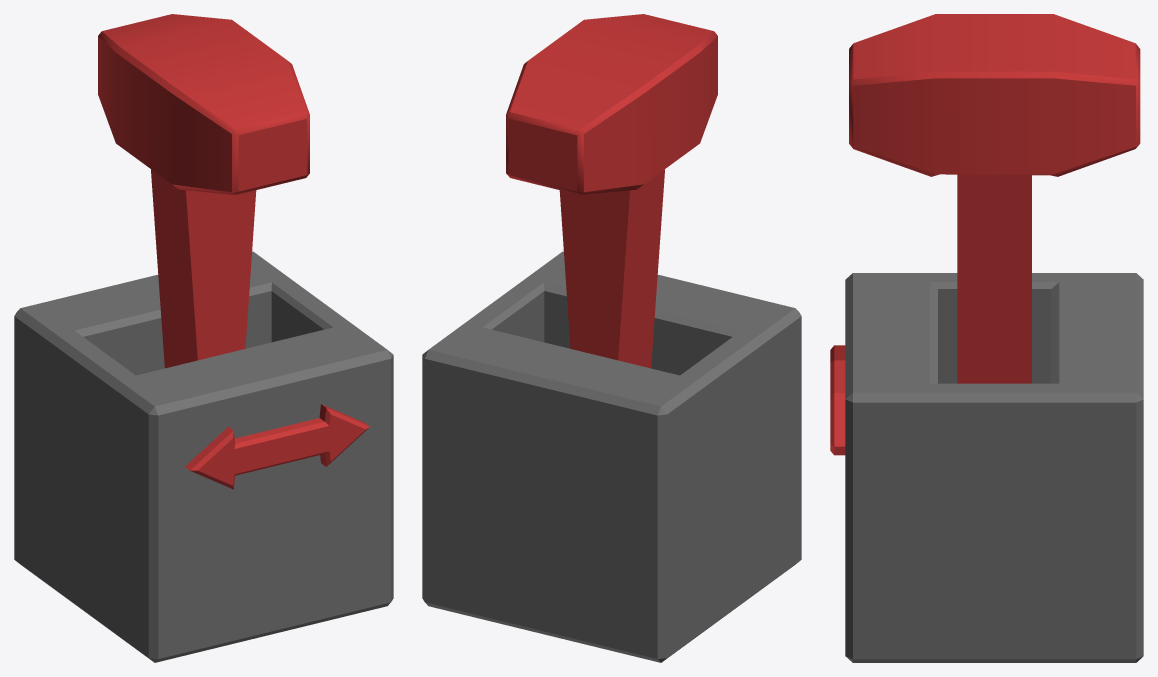
Rendered from switch_kirikae.fbx.
The picture shows the model from 3 angles, left to right: view 1: azimuth 30°, elevation 25°; view 2: azimuth 150°, elevation 25°; view 3: azimuth 270°, elevation 25°; orthographic projection. The views are drawn at different scales.
Visible parts, largest first — view 1: pCube3, pCube4, pCube6; view 2: pCube3, pCube4; view 3: pCube3, pCube4, pCube6.
Part boxes in pixels (<box>): pCube3: <box>14,251,393,662</box>; pCube4: <box>98,14,309,368</box>; pCube6: <box>185,404,369,489</box>; pCube3: <box>422,251,801,662</box>; pCube4: <box>506,14,717,368</box>; pCube3: <box>845,273,1143,662</box>; pCube4: <box>849,14,1140,383</box>; pCube6: <box>830,345,845,455</box>.
Bounding box in the file's own units: 4 × 8.29 × 4.2.
